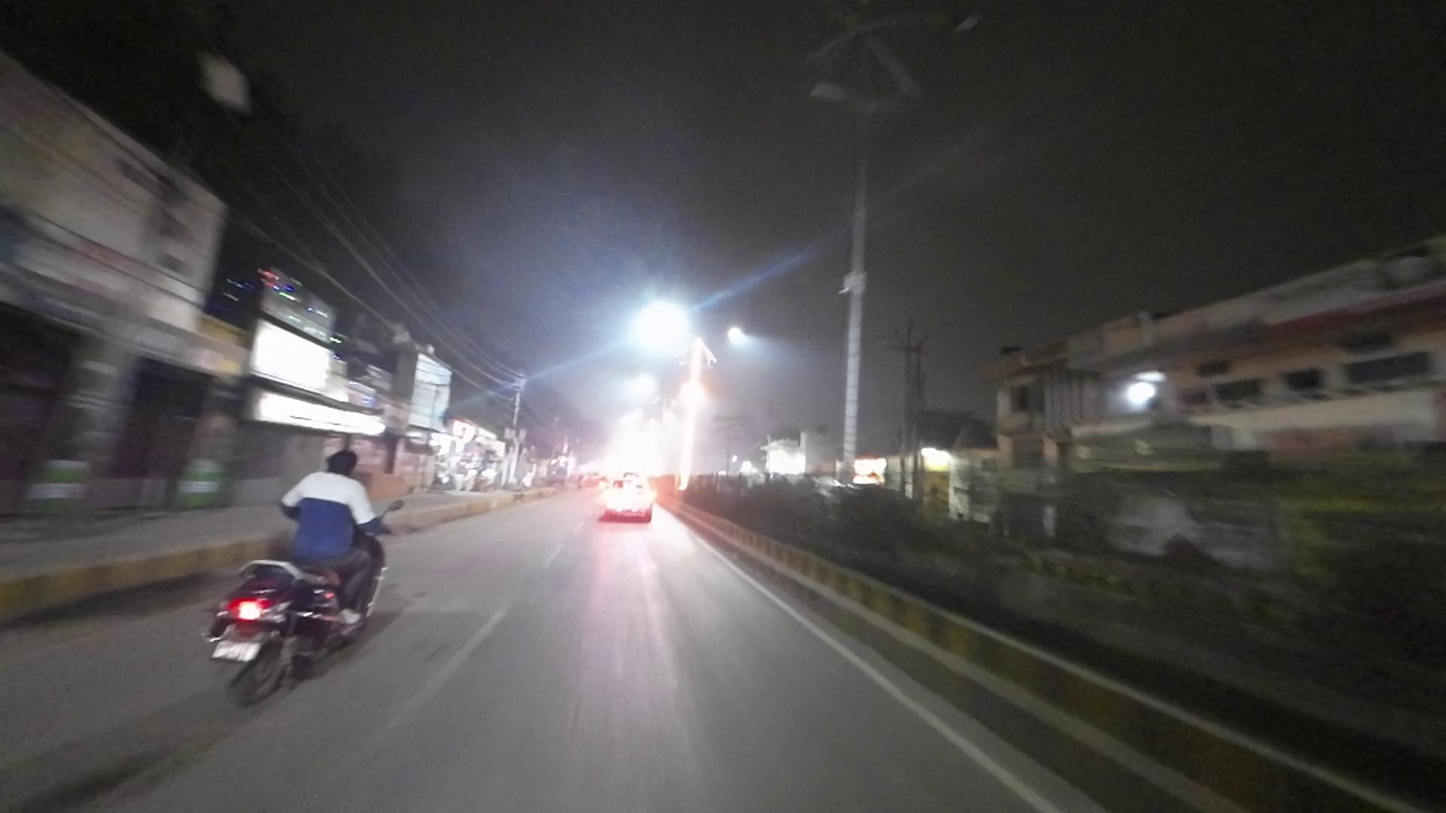streetlight: (873, 2, 982, 43)
